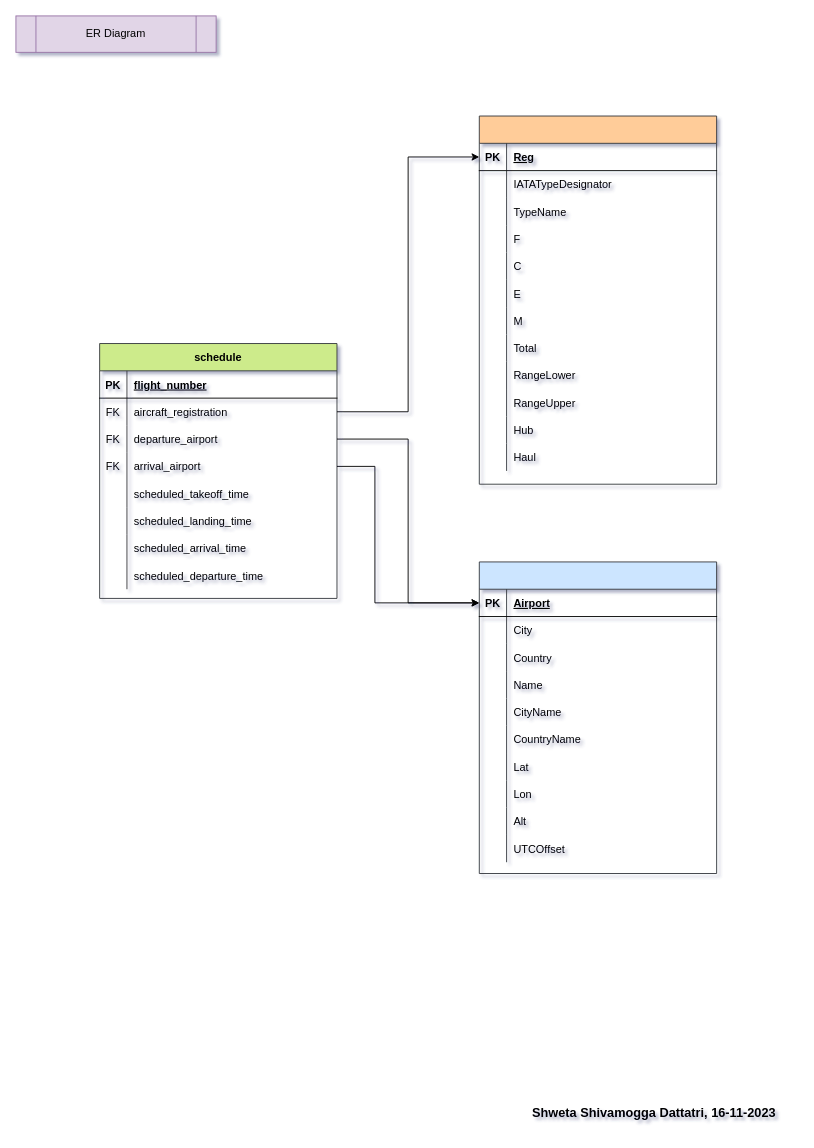
This 814x1148 diagram has some shape labels left out. Each missing label, with the box of its shape:
airports: (478, 561, 717, 874)
Fleet: (478, 115, 717, 484)
